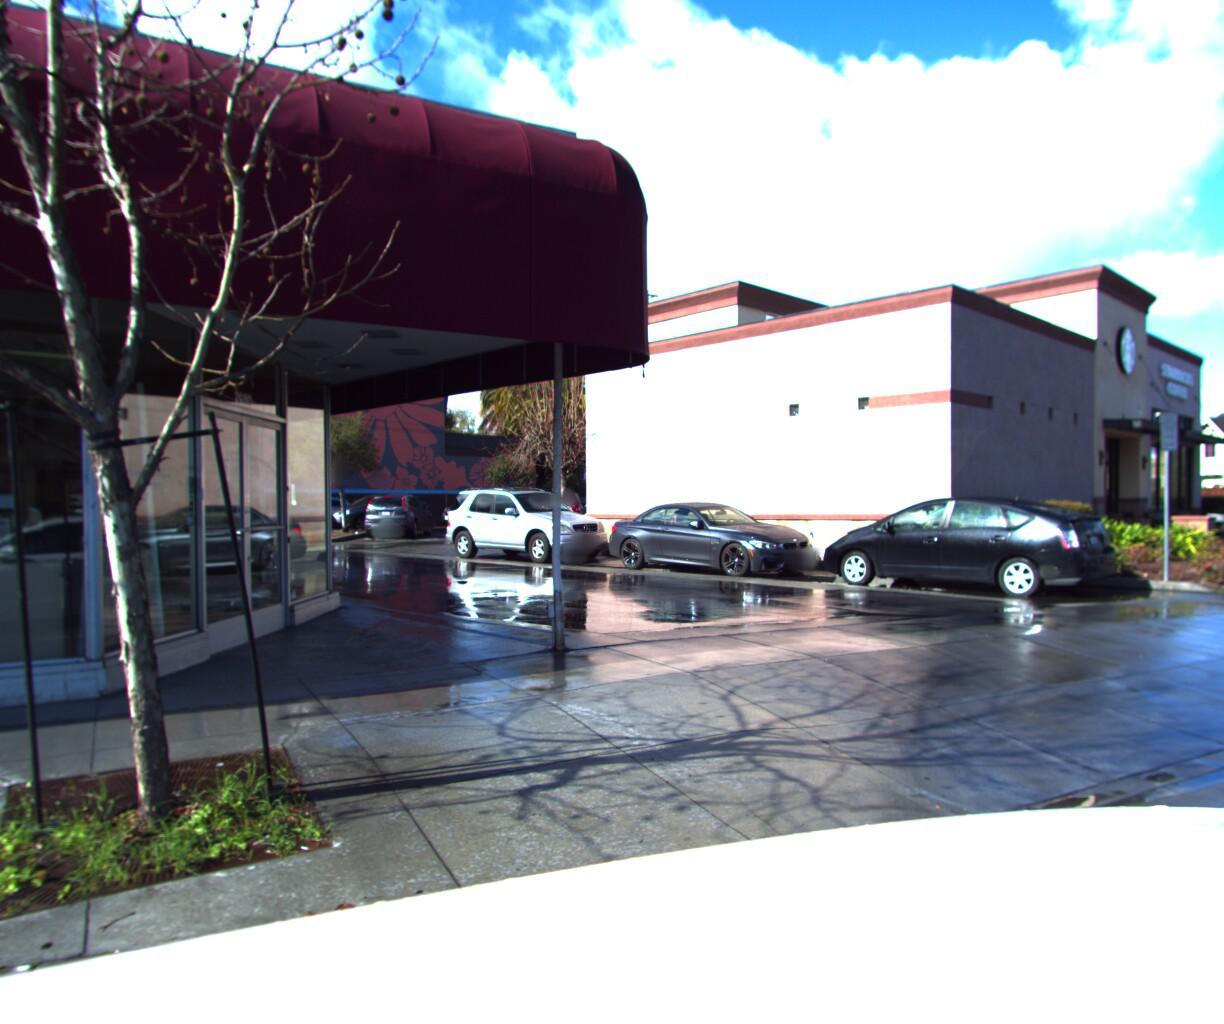bicycle: (1205, 492, 1224, 542)
car: (817, 491, 1129, 606), (594, 495, 837, 587)
